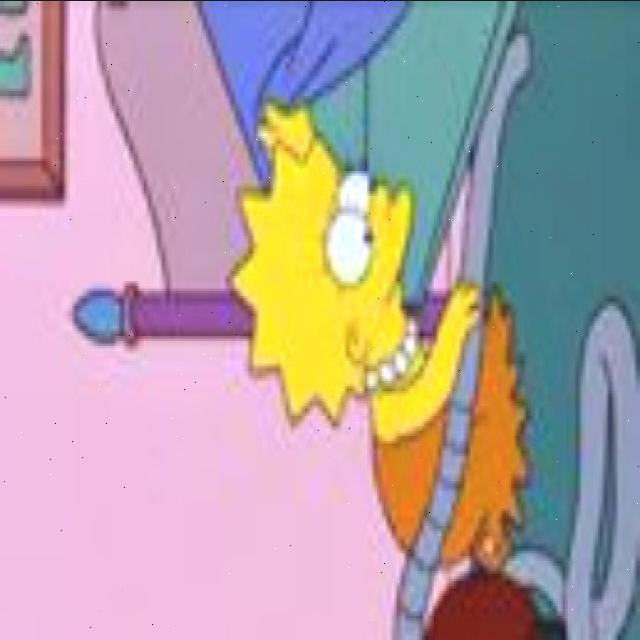Lisa Simpson: (231, 132, 422, 428)
